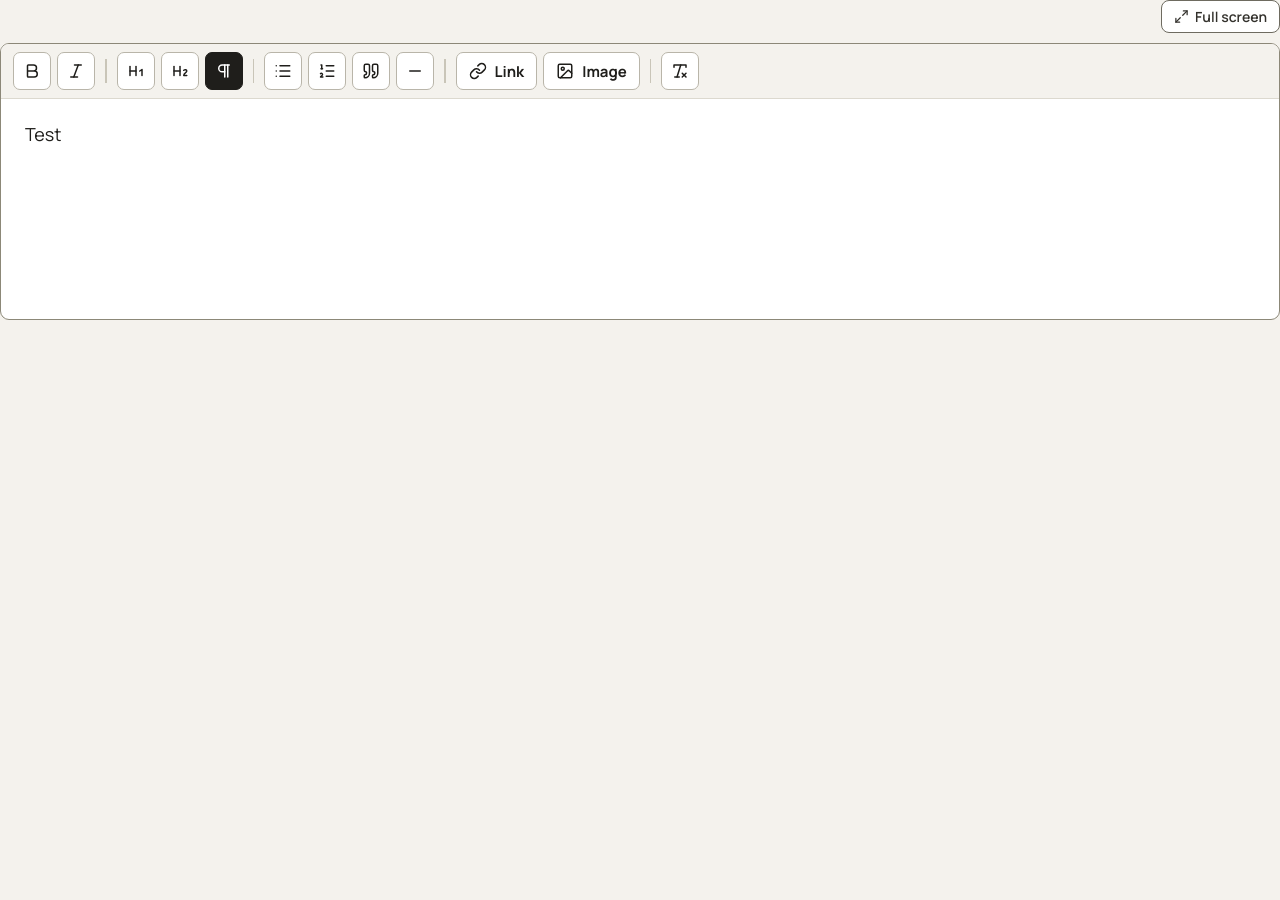
RichtextEditor › modal focus management › disables editor when image modal is open
This screenshot has width=1280, height=900.
Open image modal
Click the button titled "Insert image".
click(592, 71)  # box x1=543 y1=52 x2=640 y2=90
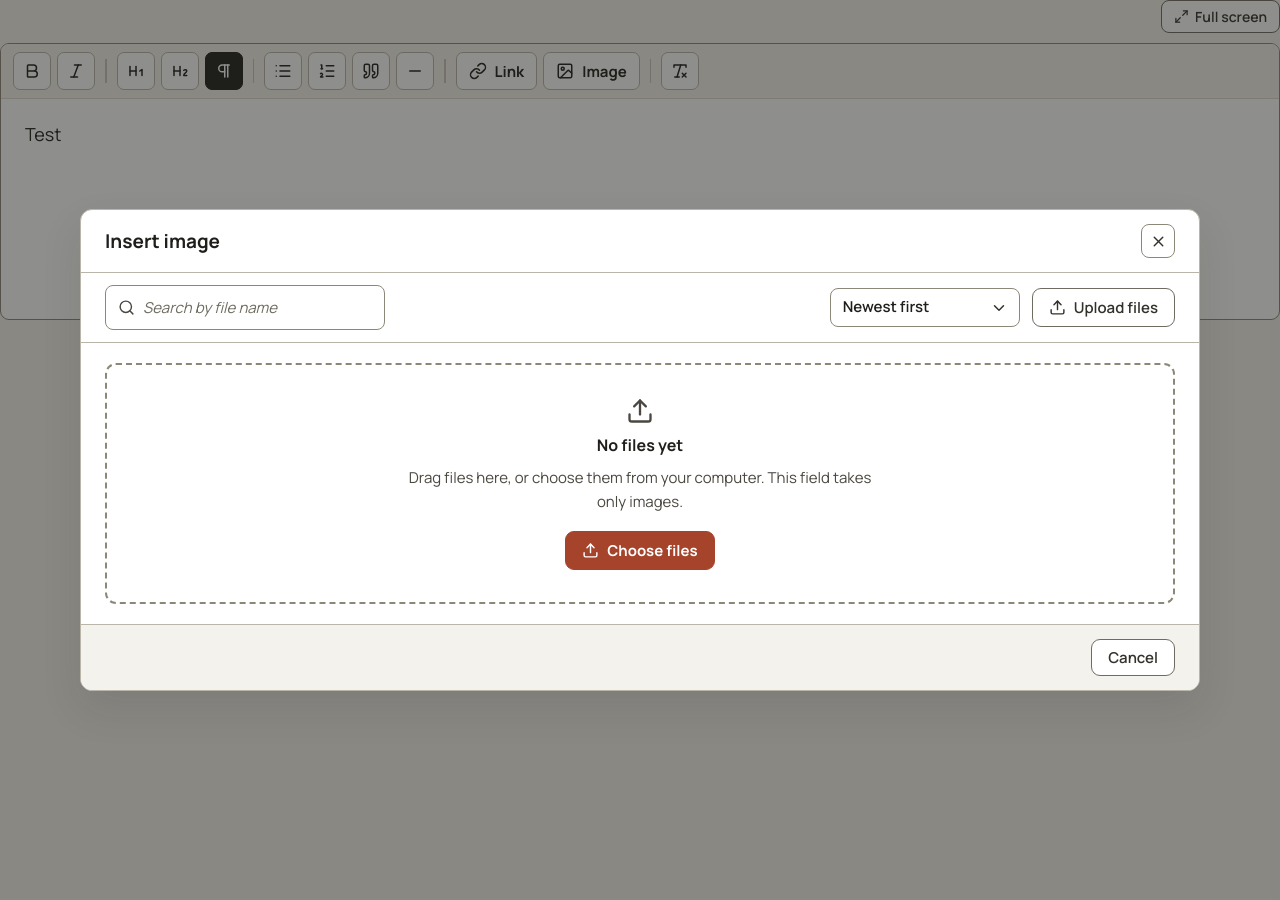
Expected: the dialog "Insert image" is shown, x1=80 y1=209 x2=1200 y2=691
